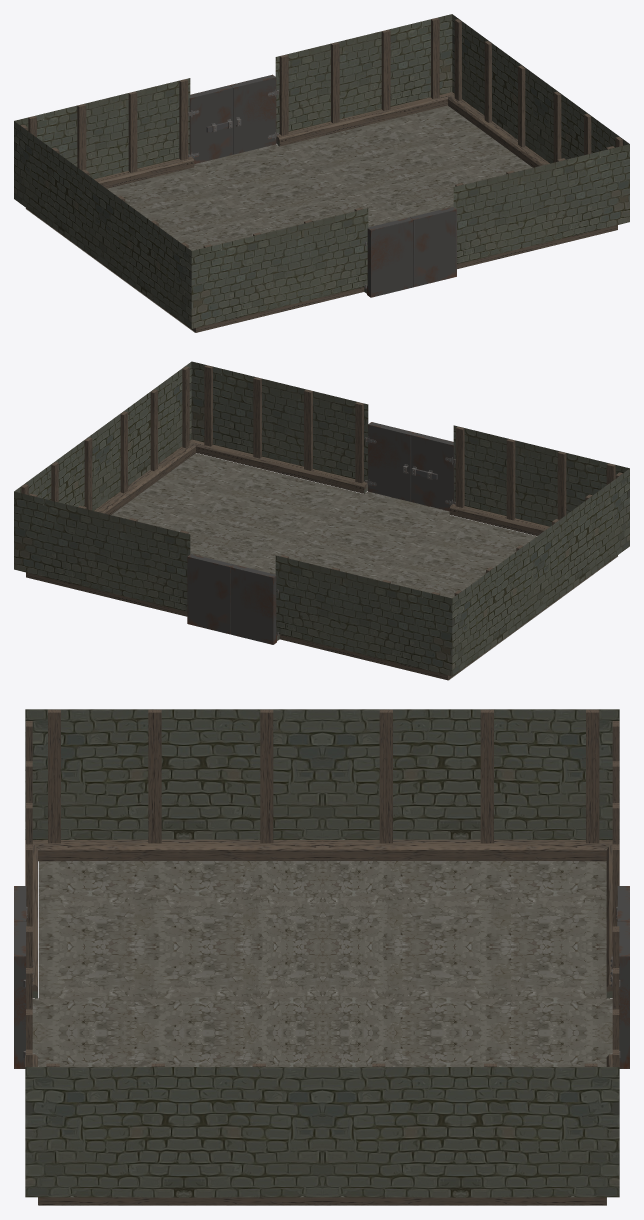
The model's file is hall_1.fbx.
3 renders of one model, top to bottom at view 1: azimuth 30°, elevation 25°; view 2: azimuth 150°, elevation 25°; view 3: azimuth 270°, elevation 25°, orthographic. The views are drawn at different scales.
Visible parts, largest first — view 1: wall_3, floor5, pCube1, pCube8, Syuuseityuu:Prison_Door:pCube7, Syuuseityuu:Prison_Door:pCube1, wood_Pillar_7 (×2), wood_Pillar_6 (×2), wood_Pillar_5 (×2), wood_Pillar_10 (×2), wood_Pillar_15, wood_Pillar_13 (+1 smaller); view 2: wall_3, floor5, Syuuseityuu:Prison_Door:pCube1, Syuuseityuu:Prison_Door:pCube7, pCube8, pCube1, wood_Pillar_15 (×2), wood_Pillar_13 (×2), wood_Pillar_6 (×2), wood_Pillar_5 (×2), wood_Pillar_7, wood_Pillar_10 (+1 smaller); view 3: wall_3, floor5, wood_Pillar_7, wood_Pillar_5, wood_Pillar_6, wood_Pillar_15, wood_Pillar_13, wood_Pillar_10, pCube8, Syuuseityuu:Prison_Door:pCube7.
Boxes of the visible parts, <box> form: wall_3: <box>14,14,629,332</box>; floor5: <box>25,105,532,332</box>; pCube1: <box>367,217,413,297</box>; pCube8: <box>410,207,456,286</box>; Syuuseityuu:Prison_Door:pCube7: <box>230,74,276,154</box>; Syuuseityuu:Prison_Door:pCube1: <box>189,85,233,163</box>; wood_Pillar_7 (×2): <box>381,29,491,122</box>; wood_Pillar_6 (×2): <box>279,54,561,162</box>; wood_Pillar_5 (×2): <box>331,42,525,147</box>; wood_Pillar_10 (×2): <box>431,17,461,100</box>; wood_Pillar_15: <box>179,79,188,160</box>; wood_Pillar_13: <box>128,91,137,172</box>; wall_3: <box>14,361,629,680</box>; floor5: <box>111,453,617,680</box>; Syuuseityuu:Prison_Door:pCube1: <box>230,564,276,644</box>; Syuuseityuu:Prison_Door:pCube7: <box>187,554,233,634</box>; pCube8: <box>368,422,413,501</box>; pCube1: <box>411,432,454,511</box>; wood_Pillar_15 (×2): <box>182,366,464,507</box>; wood_Pillar_13 (×2): <box>150,389,515,520</box>; wood_Pillar_6 (×2): <box>120,402,363,493</box>; wood_Pillar_5 (×2): <box>84,389,312,510</box>; wood_Pillar_7: <box>253,377,261,458</box>; wood_Pillar_10: <box>204,365,212,446</box>; wall_3: <box>25,709,619,1205</box>; floor5: <box>32,861,612,1205</box>; wood_Pillar_7: <box>148,709,161,843</box>; wood_Pillar_5: <box>260,709,273,843</box>; wood_Pillar_6: <box>379,709,392,843</box>; wood_Pillar_15: <box>586,709,599,843</box>; wood_Pillar_13: <box>480,709,493,843</box>; wood_Pillar_10: <box>48,709,60,843</box>; pCube8: <box>14,921,26,1068</box>; Syuuseityuu:Prison_Door:pCube7: <box>617,921,629,1068</box>.
Size of the model in its own units: 2017 by 383 by 1468.
